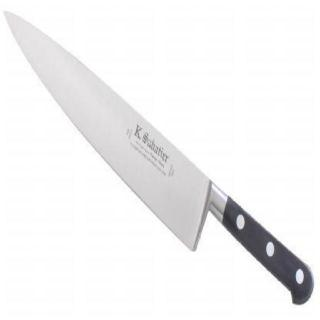knife: (2, 4, 215, 306)
